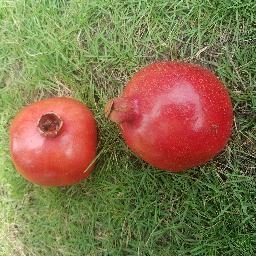pomegranate: (107, 61, 233, 170), (9, 97, 99, 187)
